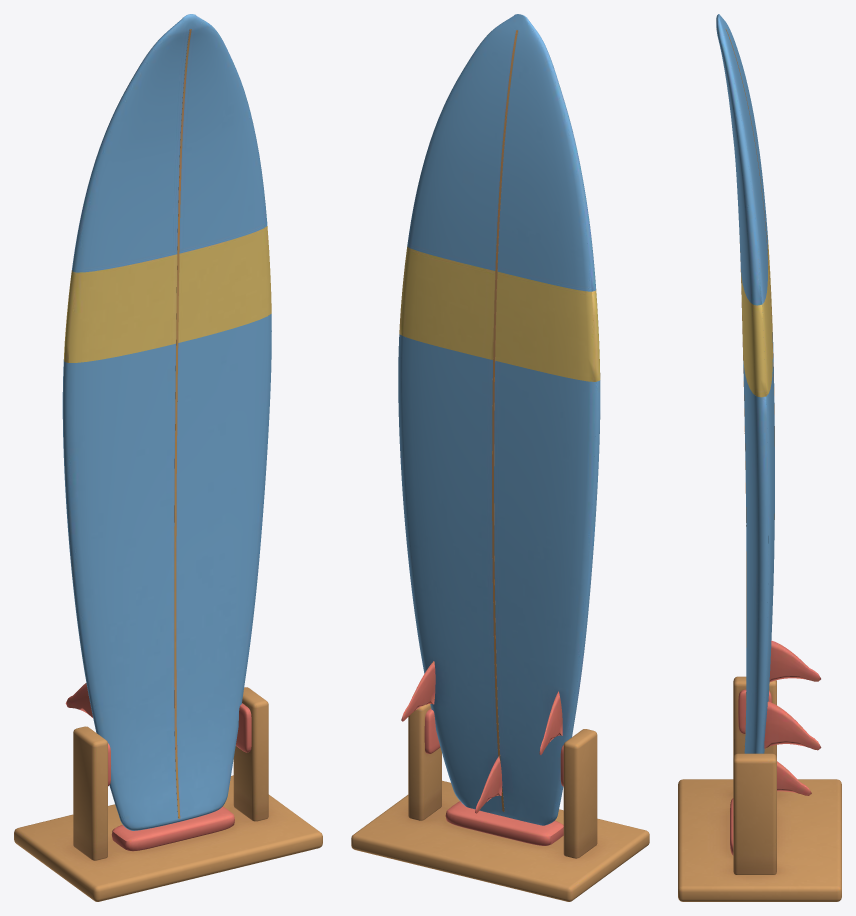
The model's file is stitch.glb.
The picture shows the model from 3 angles, left to right: view 1: azimuth 30°, elevation 25°; view 2: azimuth 150°, elevation 25°; view 3: azimuth 270°, elevation 25°; orthographic projection. The views are drawn at different scales.
Parts seen in each view (by area): view 1: surfboard_body; view 2: surfboard_body; view 3: surfboard_body.
Part boxes in pixels (x1=…): surfboard_body: x1=14, y1=14, x2=322, y2=901; surfboard_body: x1=351, y1=14, x2=649, y2=901; surfboard_body: x1=678, y1=14, x2=841, y2=901.
Size of the model in its own units: 0.54 by 1.91 by 0.34.
Materials: 2 (2 with a texture image).
